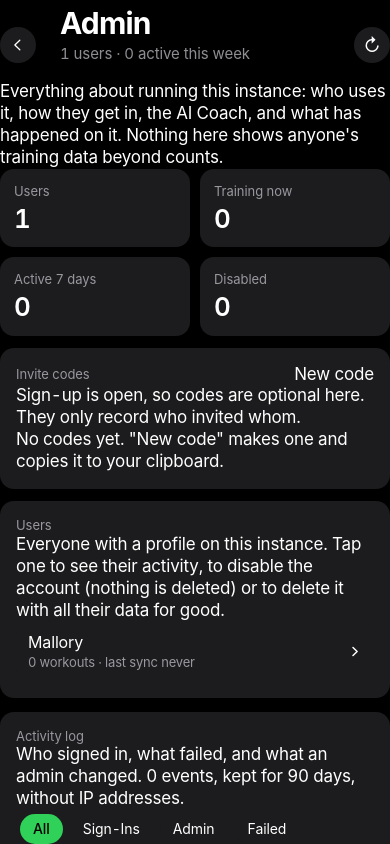
Test case: Admin → Reset password › is not there on an instance without password sign-in
Step 1. Click the element showing "Mallory 0 workouts · last sync never" → click(195, 652), box [16,622,374,682]
(page scrolled)
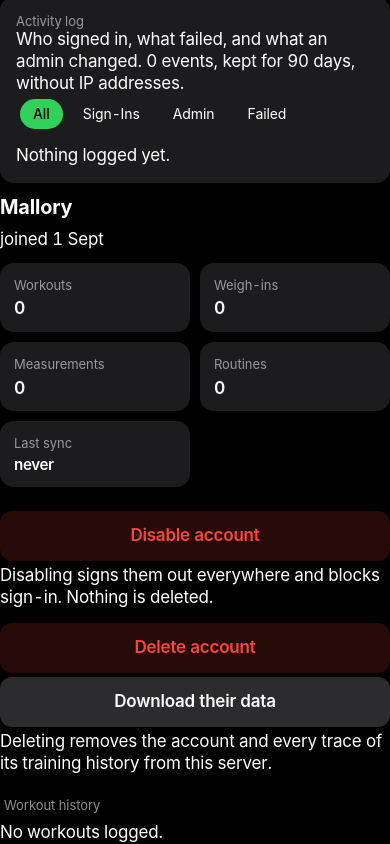
Check: the button "Disable account" is shown, box [0,511,389,561]
